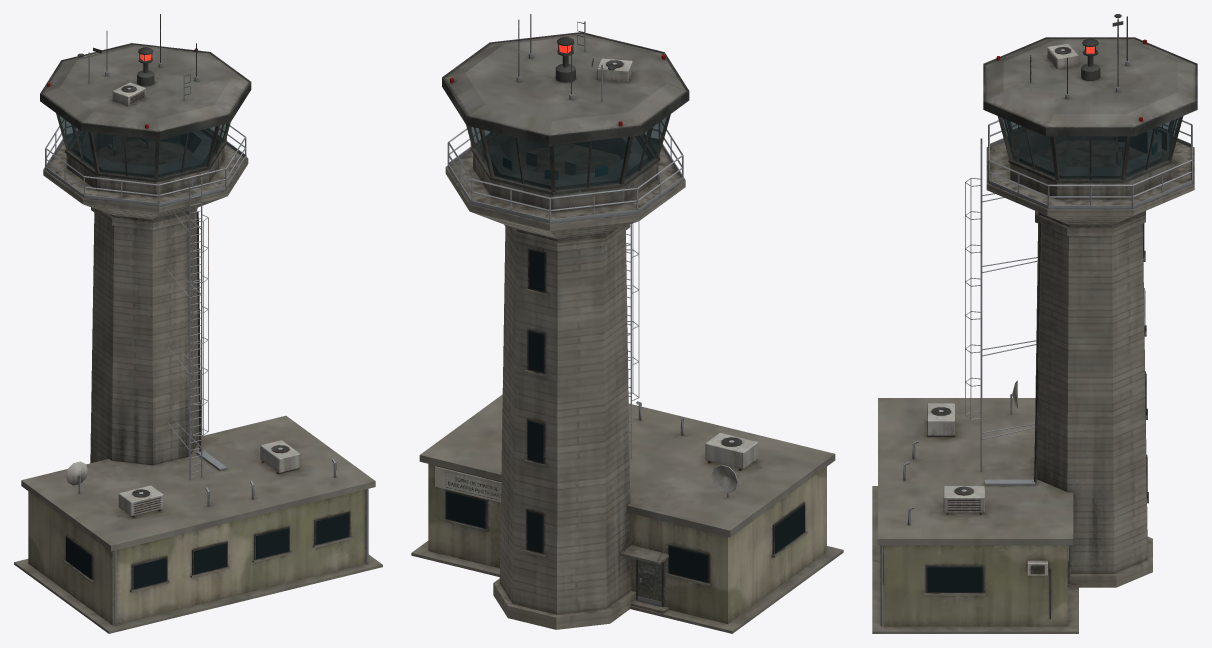
Rendered from base_control_tower.glb.
3 views of the same model, side by side, from view 1: azimuth 30°, elevation 25°; view 2: azimuth 150°, elevation 25°; view 3: azimuth 270°, elevation 25° (orthographic). The views are drawn at different scales.
Parts seen in each view (by area): view 1: lod0; view 2: lod0; view 3: lod0.
Part boxes in pixels (bbox=[...]): lod0: bbox=[14, 14, 382, 633]; lod0: bbox=[411, 14, 843, 633]; lod0: bbox=[872, 14, 1197, 633].
Size of what is drawn, in the model's own units: 15 by 26 by 14.17.
5 materials, 1 textured.
